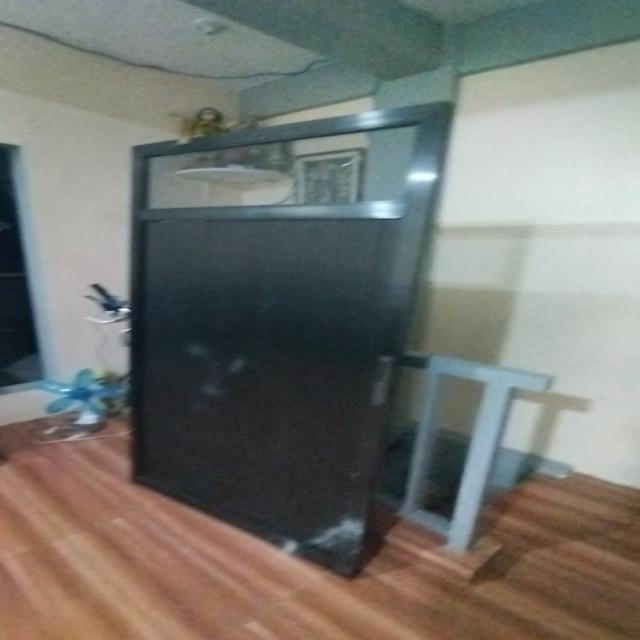door: (120, 98, 458, 569)
